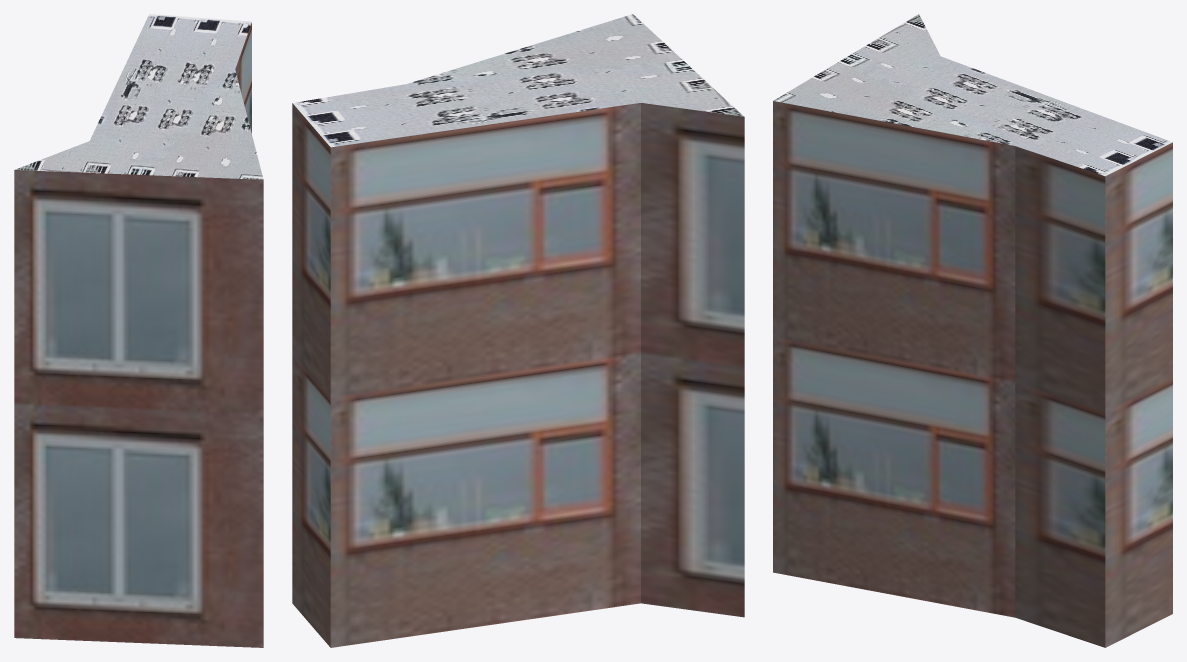
Rendered from ResTex__5266.fbx.
3 views of the same model, side by side, from view 1: azimuth 30°, elevation 25°; view 2: azimuth 150°, elevation 25°; view 3: azimuth 270°, elevation 25° (orthographic). The views are drawn at different scales.
Parts seen in each view (by area): view 1: CityEngineMaterial_19_m, CityEngineMaterial_15_m; view 2: CityEngineMaterial_19_m, CityEngineMaterial_15_m; view 3: CityEngineMaterial_19_m, CityEngineMaterial_15_m.
Part boxes in pixels (<box>): CityEngineMaterial_19_m: <box>14,22,263,647</box>; CityEngineMaterial_15_m: <box>15,14,263,179</box>; CityEngineMaterial_19_m: <box>292,103,744,647</box>; CityEngineMaterial_15_m: <box>293,14,743,147</box>; CityEngineMaterial_19_m: <box>773,101,1172,647</box>; CityEngineMaterial_15_m: <box>773,14,1172,176</box>.
Size of the model in its own units: 4.43 by 6 by 4.61.
2 materials, 2 textured.
